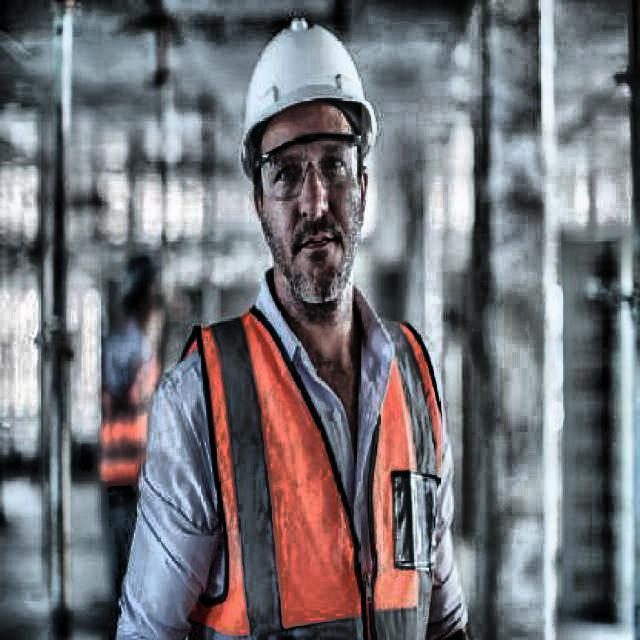safety_helmet: (239, 17, 379, 184)
safety_jacket: (182, 304, 443, 640), (96, 330, 163, 490)
